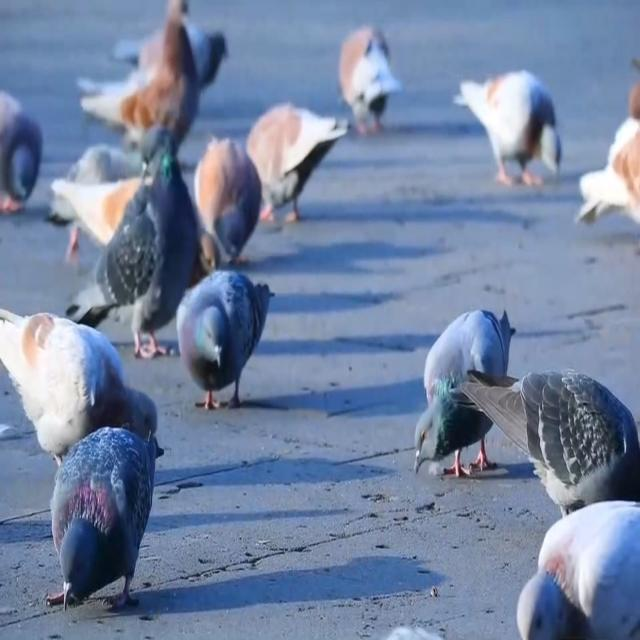bird: (51, 114, 219, 366), (28, 402, 200, 625), (0, 290, 184, 474), (448, 346, 640, 520), (38, 150, 246, 294), (162, 252, 290, 445), (75, 0, 219, 164), (406, 276, 510, 496), (502, 489, 640, 640), (225, 91, 354, 228), (182, 107, 282, 277), (449, 61, 567, 203), (570, 56, 640, 262), (101, 24, 246, 100), (324, 20, 403, 139), (0, 59, 50, 223), (56, 123, 155, 189)
